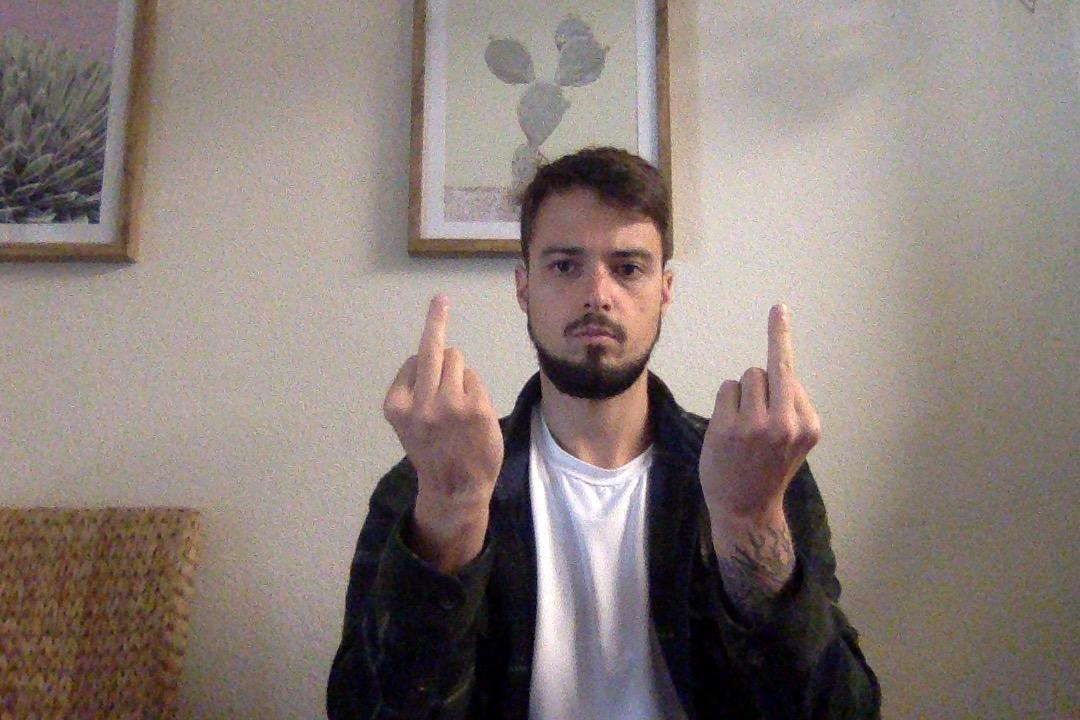Middle: (699, 295, 823, 520), (380, 290, 500, 486)
